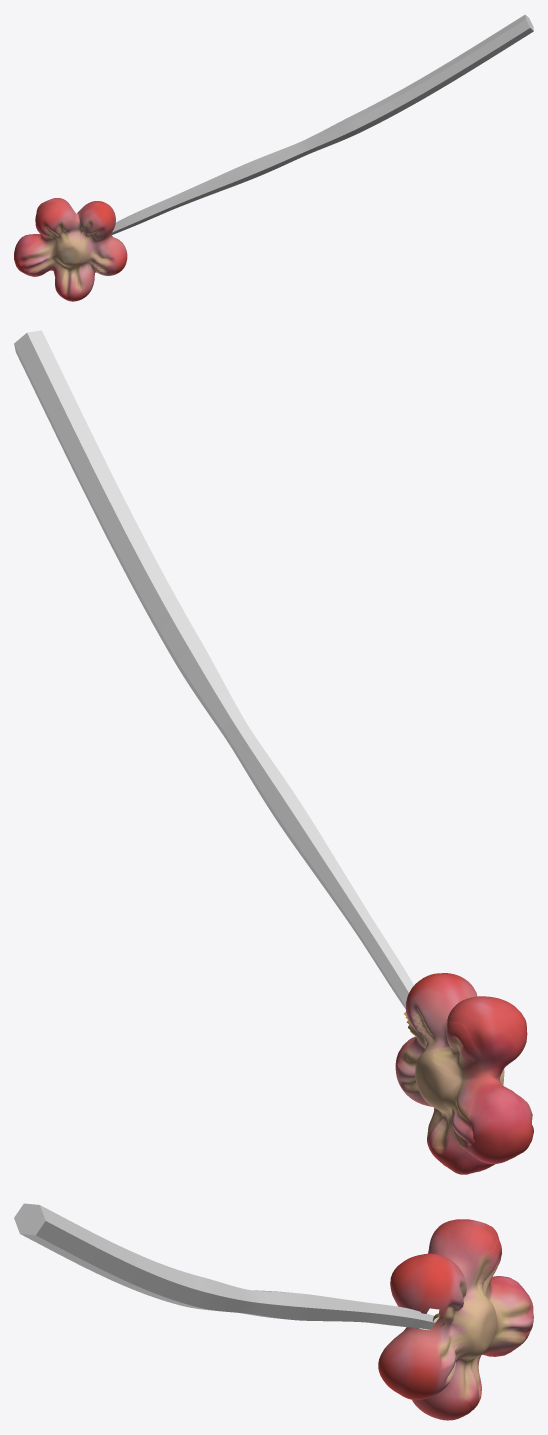
The picture shows the model from 3 angles, top to bottom: view 1: azimuth 30°, elevation 25°; view 2: azimuth 150°, elevation 25°; view 3: azimuth 270°, elevation 25°; orthographic projection. The views are drawn at different scales.
Visible parts, largest first — view 1: LOD 0_4441588532611241159_923a94d9283586042bf341a57634d57c; view 2: LOD 0_4441588532611241159_923a94d9283586042bf341a57634d57c; view 3: LOD 0_4441588532611241159_923a94d9283586042bf341a57634d57c.
Boxes of the visible parts, left/top/right/bottom form: LOD 0_4441588532611241159_923a94d9283586042bf341a57634d57c: left=14, top=14, right=533, bottom=301; LOD 0_4441588532611241159_923a94d9283586042bf341a57634d57c: left=14, top=330, right=533, bottom=1174; LOD 0_4441588532611241159_923a94d9283586042bf341a57634d57c: left=14, top=1203, right=533, bottom=1420.
Size of the model in its own units: 1.5 by 1.01 by 0.9113.
